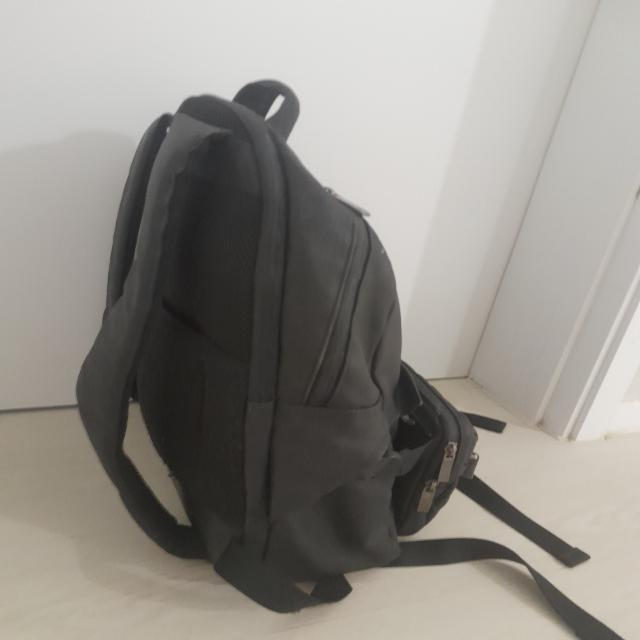backpack: (76, 78, 624, 640)
